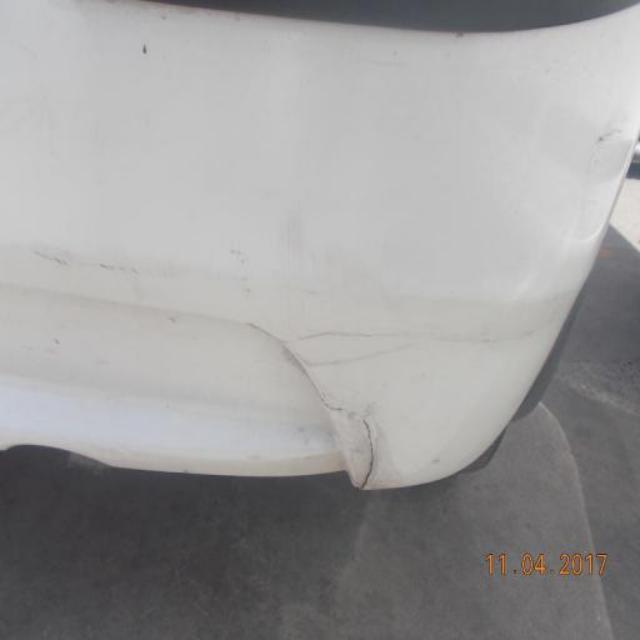crack: (352, 419, 377, 493)
